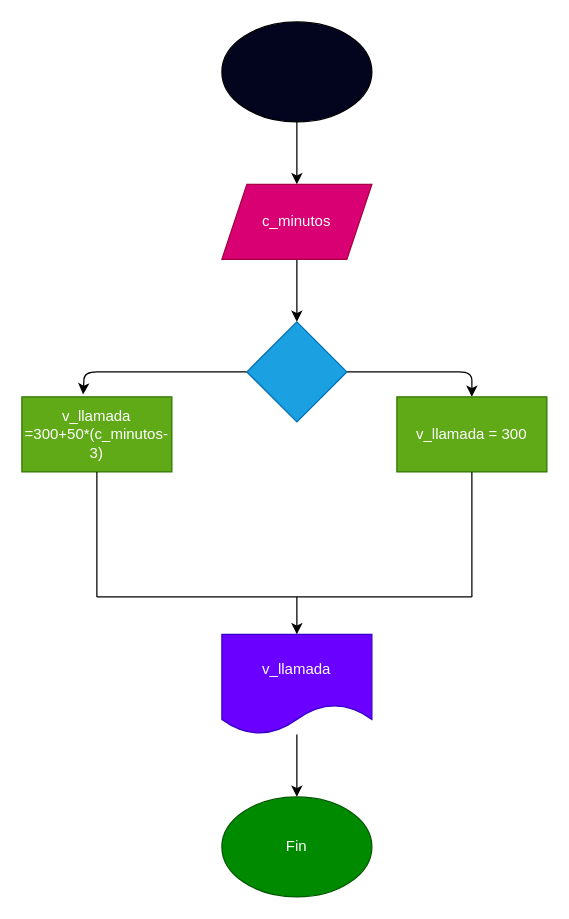
Image size: 569x919. Some labels were removed from this diagram. Each missing label, with the box of its shape:
c_minutos <=3: (246, 321, 347, 422)
Inicio: (221, 21, 372, 122)
